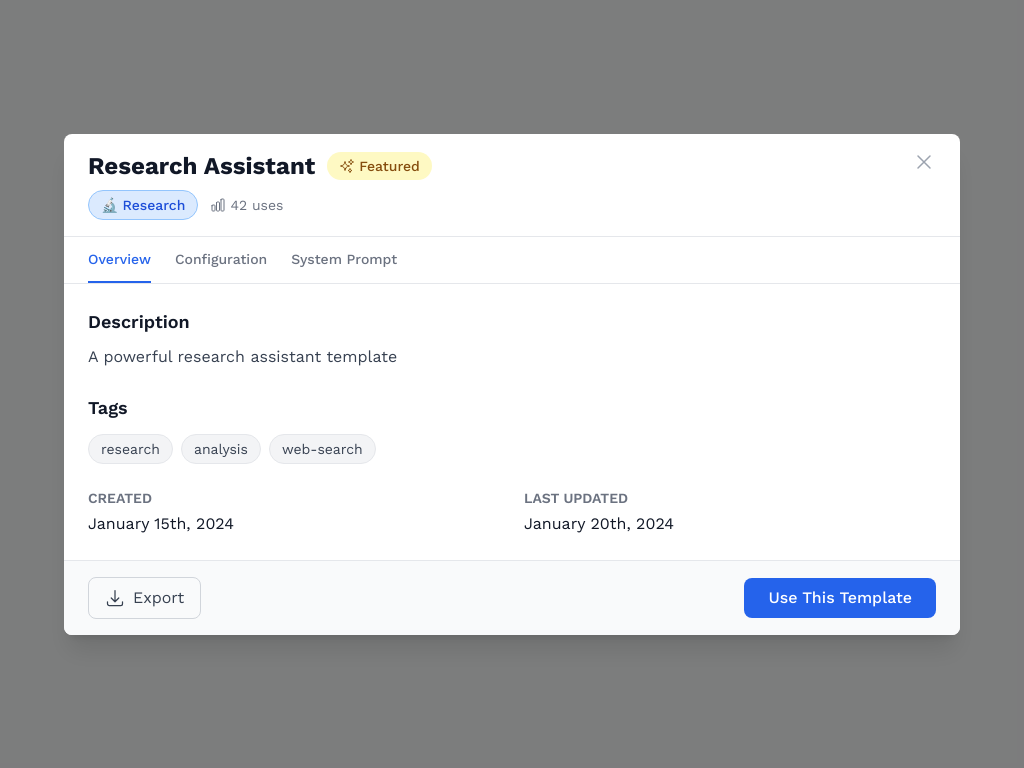
it: TemplateDetailModal › switches to configuration tab when clicked
This screenshot has width=1024, height=768.
Click the button "Configuration". click: (221, 260)
box: [175,236,267,282]
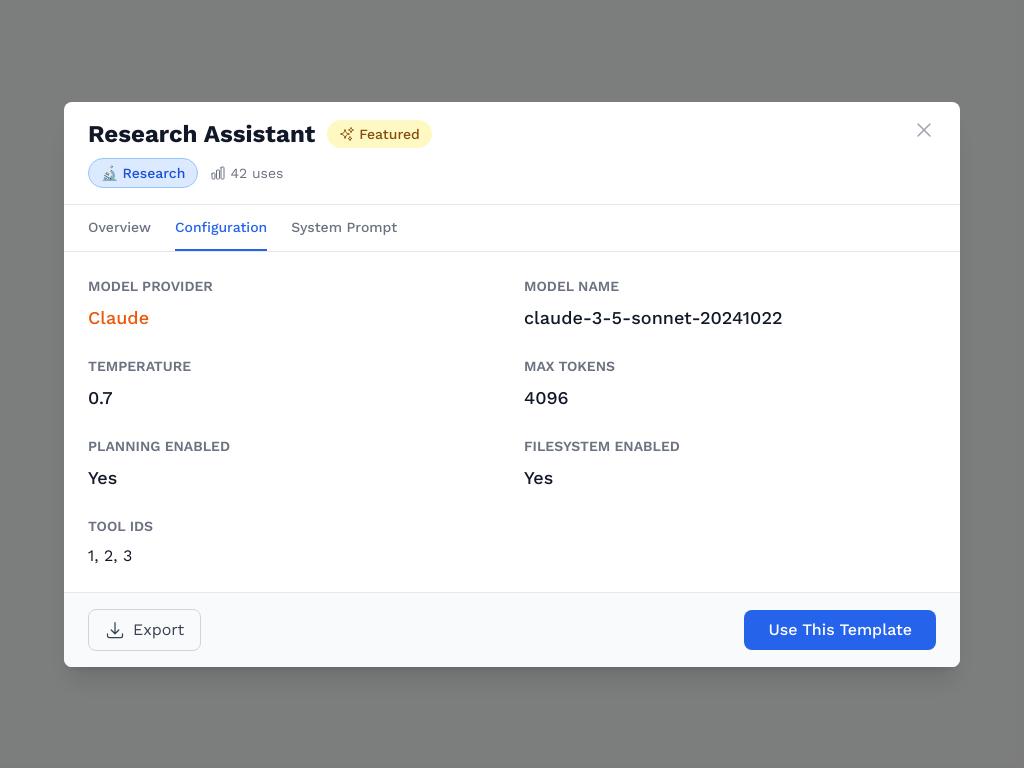
Result: the heading "Model Provider" is shown at [88,278,213,294]
Result: the text "Claude" is shown at [88,306,149,328]
Result: the text "claude-3-5-sonnet-20241022" is shown at [524,306,782,328]
